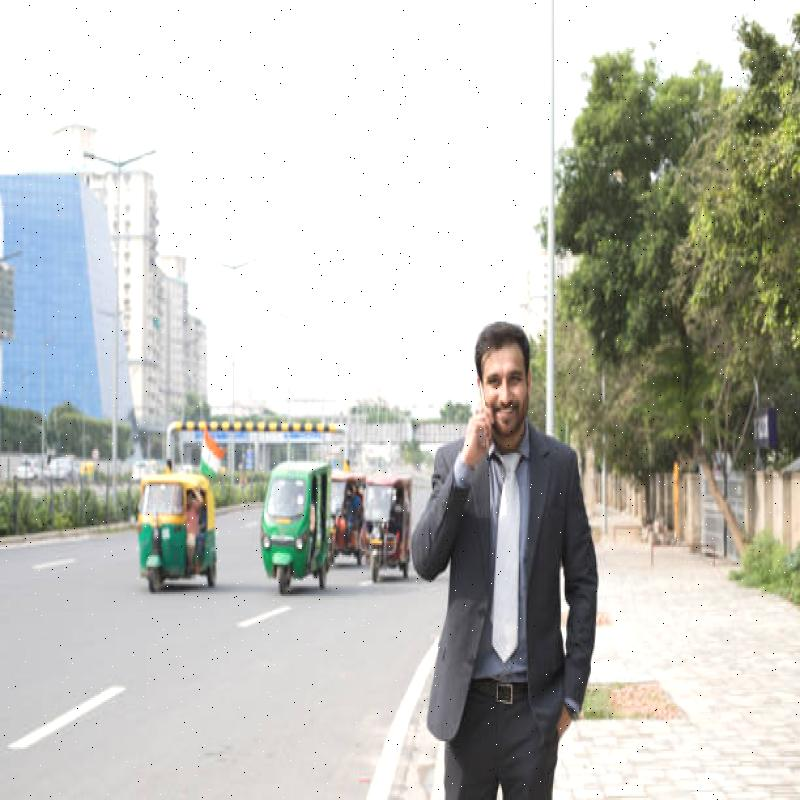auto: (132, 463, 220, 599), (357, 479, 412, 599)
